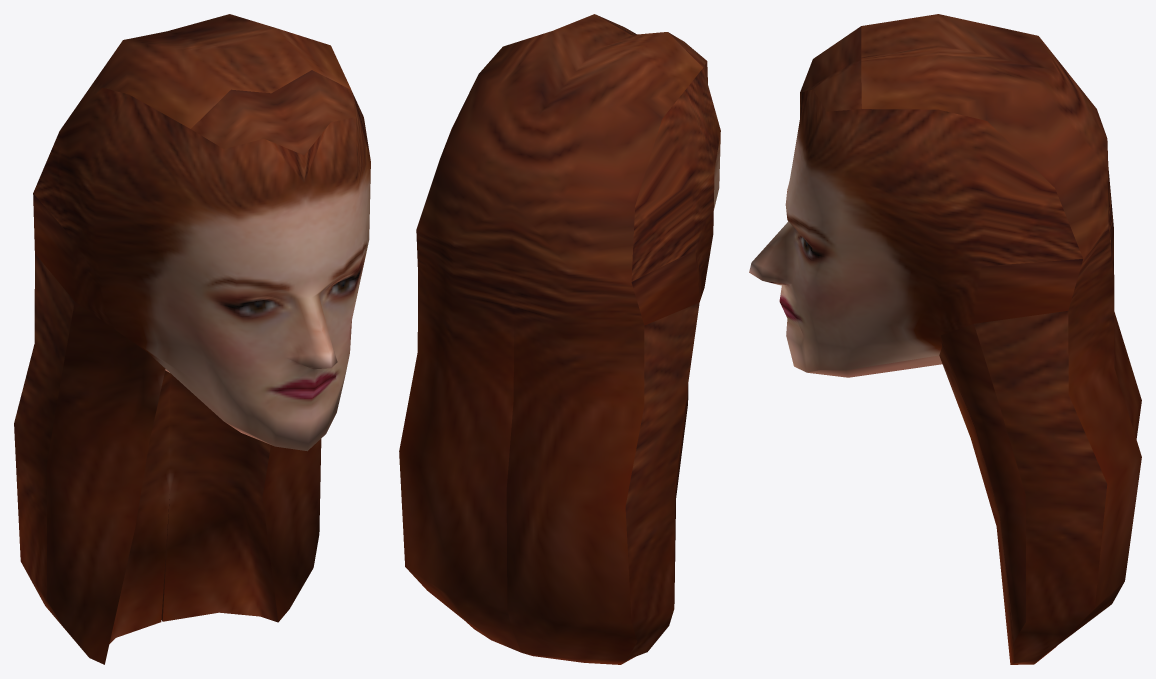
Rendered from f_head1.fbx.
3 renders of one model, left to right at view 1: azimuth 30°, elevation 25°; view 2: azimuth 150°, elevation 25°; view 3: azimuth 270°, elevation 25°, orthographic. The views are drawn at different scales.
Visible parts, largest first — view 1: f_head1; view 2: f_head1; view 3: f_head1.
Boxes of the visible parts, bbox=[...] form: f_head1: bbox=[14, 14, 370, 664]; f_head1: bbox=[399, 14, 720, 664]; f_head1: bbox=[749, 14, 1141, 664].
Size of the model in its own units: 19.69 by 43.83 by 26.33.
1 material, 1 textured.
